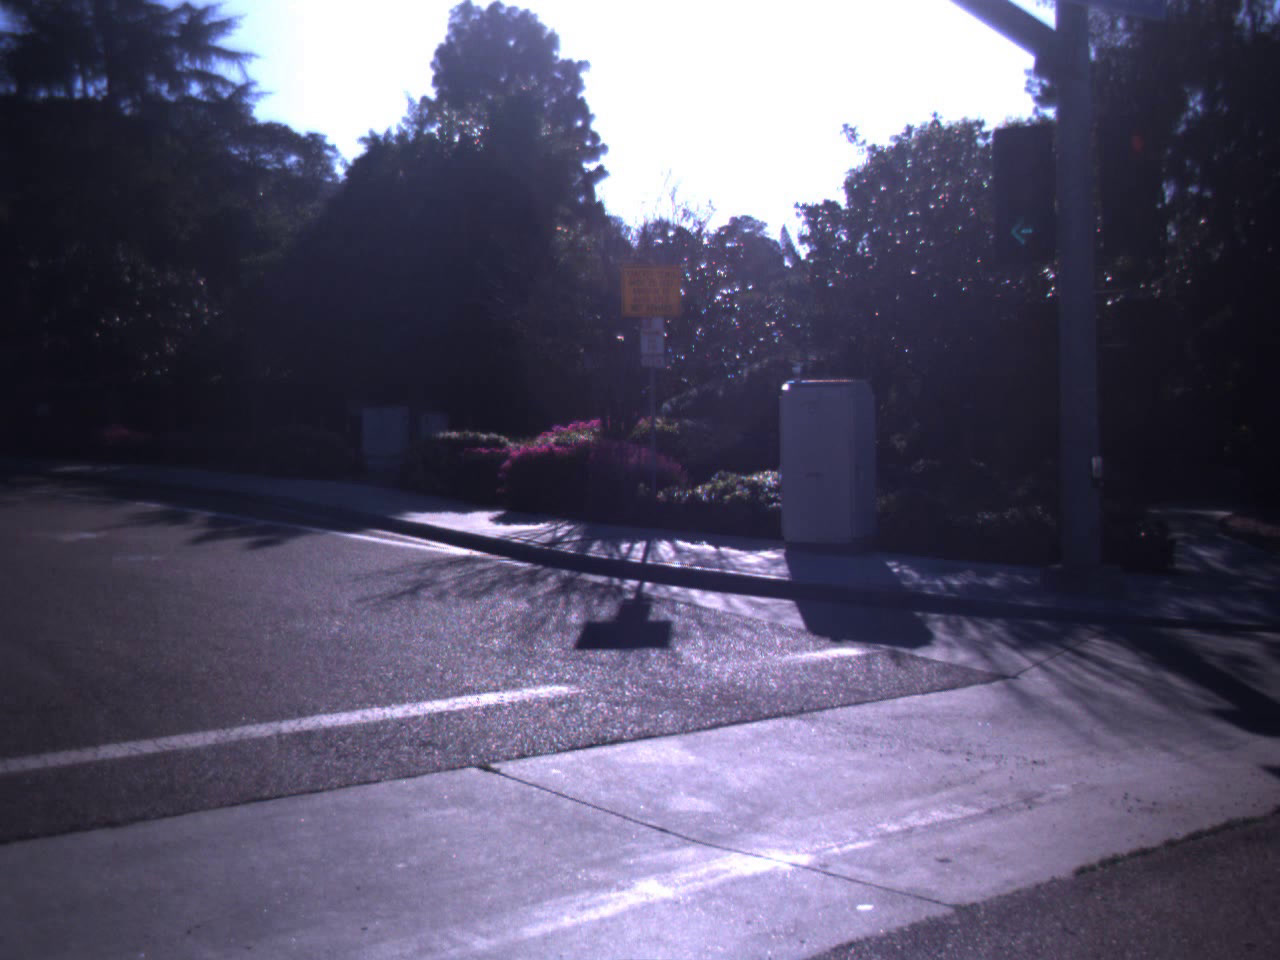go: (982, 132, 1066, 257)
